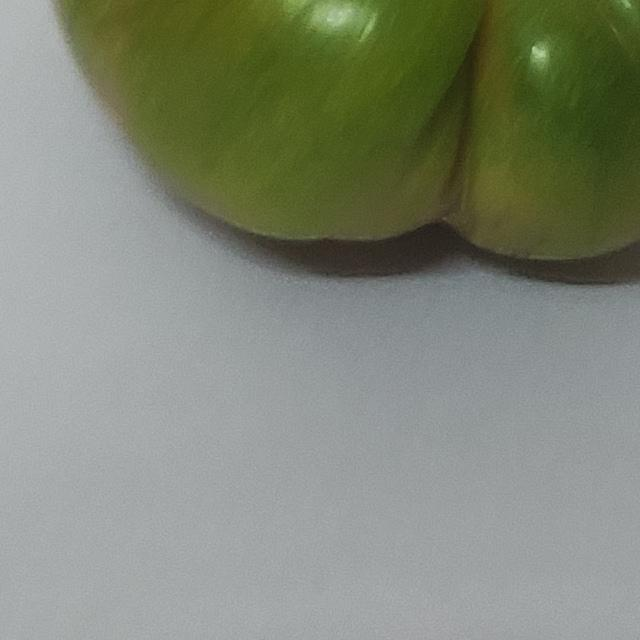tomato: (0, 0, 640, 334)
